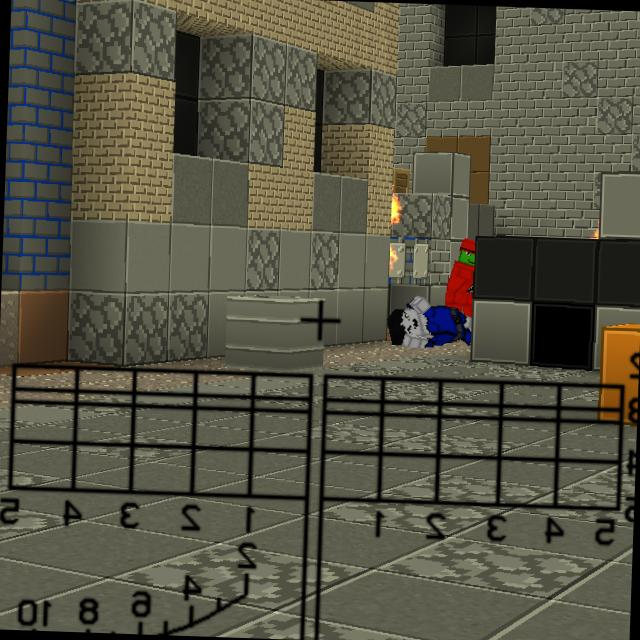enemy: (440, 235, 475, 318)
